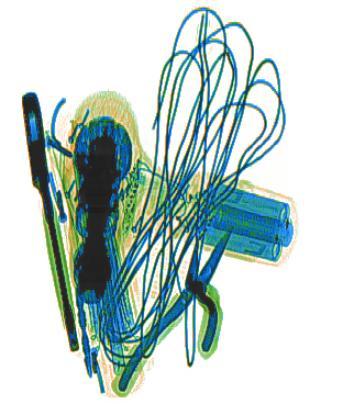battery: (188, 177, 295, 263)
